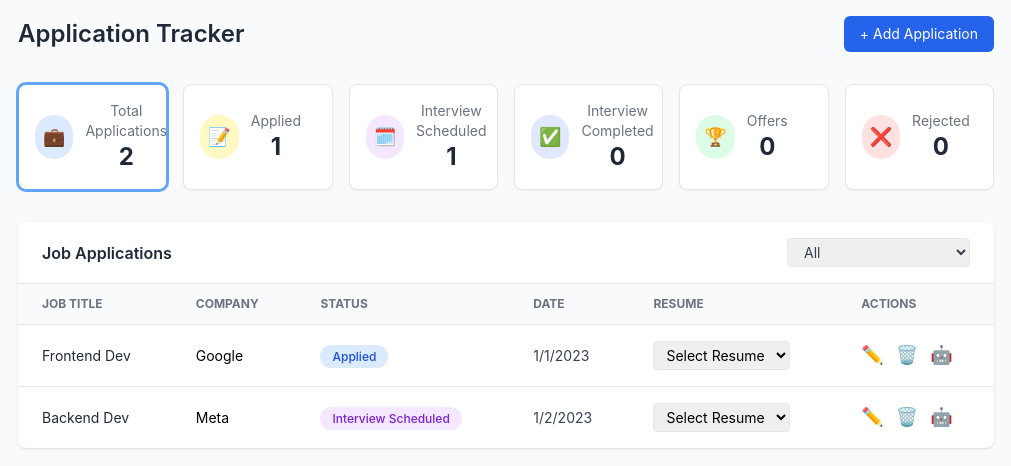
it: Tracker › shows no applications found if filter returns empty
Expected: the text "Frontend Dev" is shown, x1=18 y1=324 x2=172 y2=386
Note: Select a status not present
Select "Offer" in the dropdown showing "All" in the row of "Job Applications": (878, 252) x1=787 y1=238 x2=970 y2=267
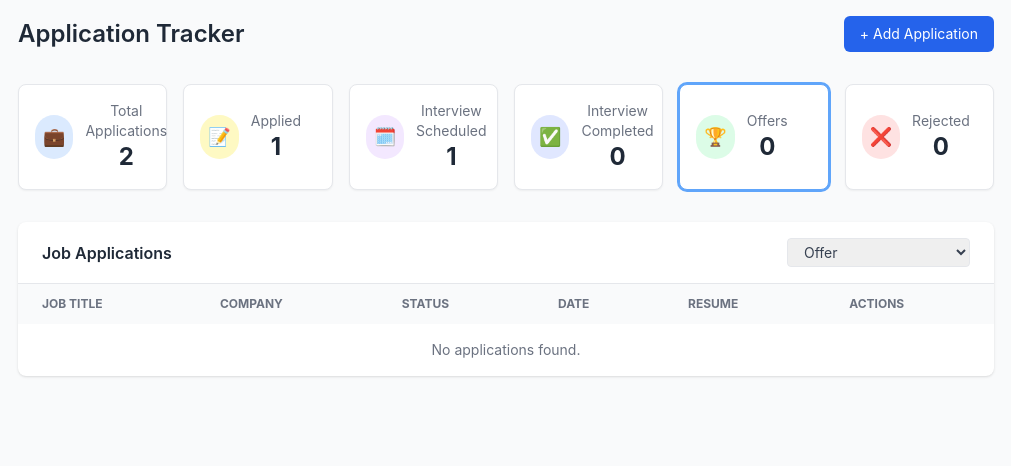
Expected: the text "No applications found." is shown, x1=18 y1=324 x2=994 y2=376
